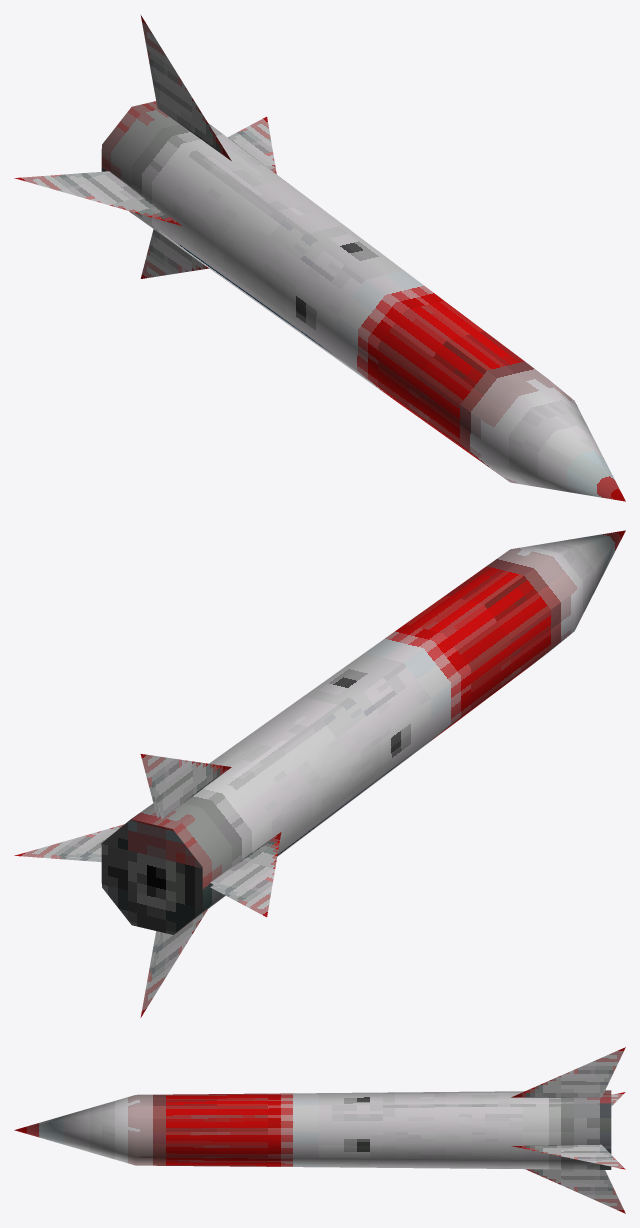
File: wpn_missile_space_s02_l3.fbx
3 renders of one model, top to bottom at view 1: azimuth 30°, elevation 25°; view 2: azimuth 150°, elevation 25°; view 3: azimuth 270°, elevation 25°, orthographic. The views are drawn at different scales.
Parts seen in each view (by area): view 1: mesh_node; view 2: mesh_node; view 3: mesh_node.
Boxes of the visible parts, box(x1,y1,x2,y2) form: mesh_node: box(14, 15, 625, 501); mesh_node: box(14, 530, 625, 1017); mesh_node: box(14, 1047, 625, 1213).
Size of the model in its own units: 0.6009 by 0.6009 by 2.
